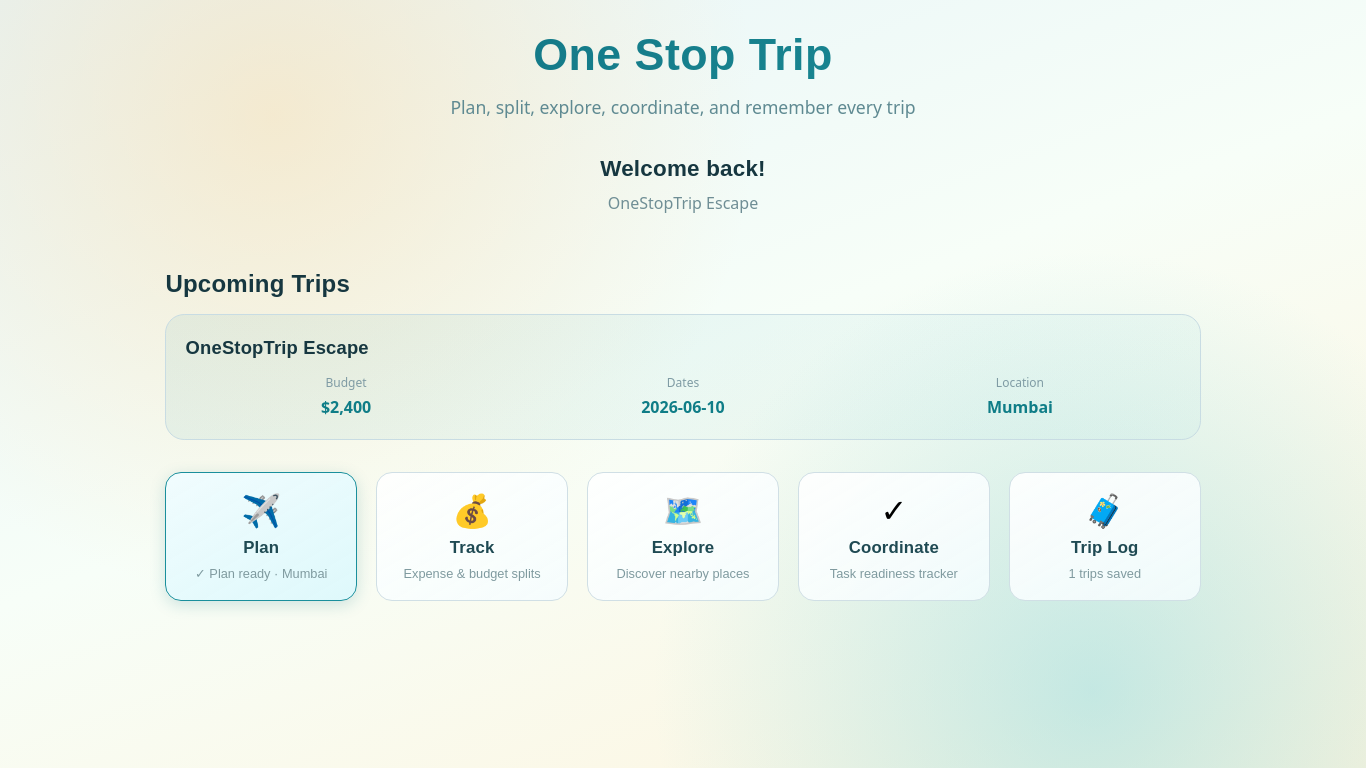
it: App integration › requires positive share values for percentage split mode before adding expenses
The width and height of the screenshot is (1366, 768).
Click the button "💰 Track Expense & budget splits" at x=472, y=536, box [376, 472, 568, 601]
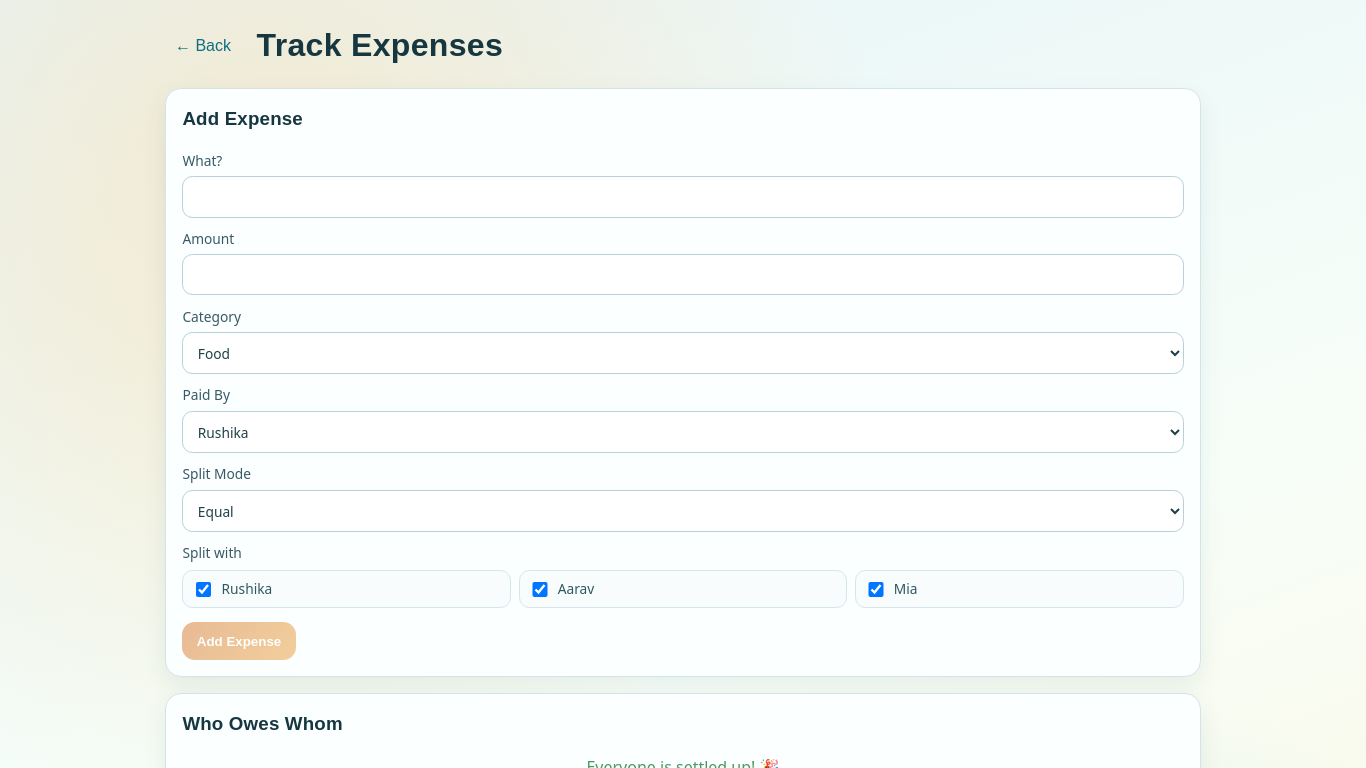
Check: the heading "Track Expenses" is shown, box [257, 22, 503, 69]
Type "Boat Ride" into the field labelled "What?" at x=683, y=197, box [182, 176, 1184, 218]
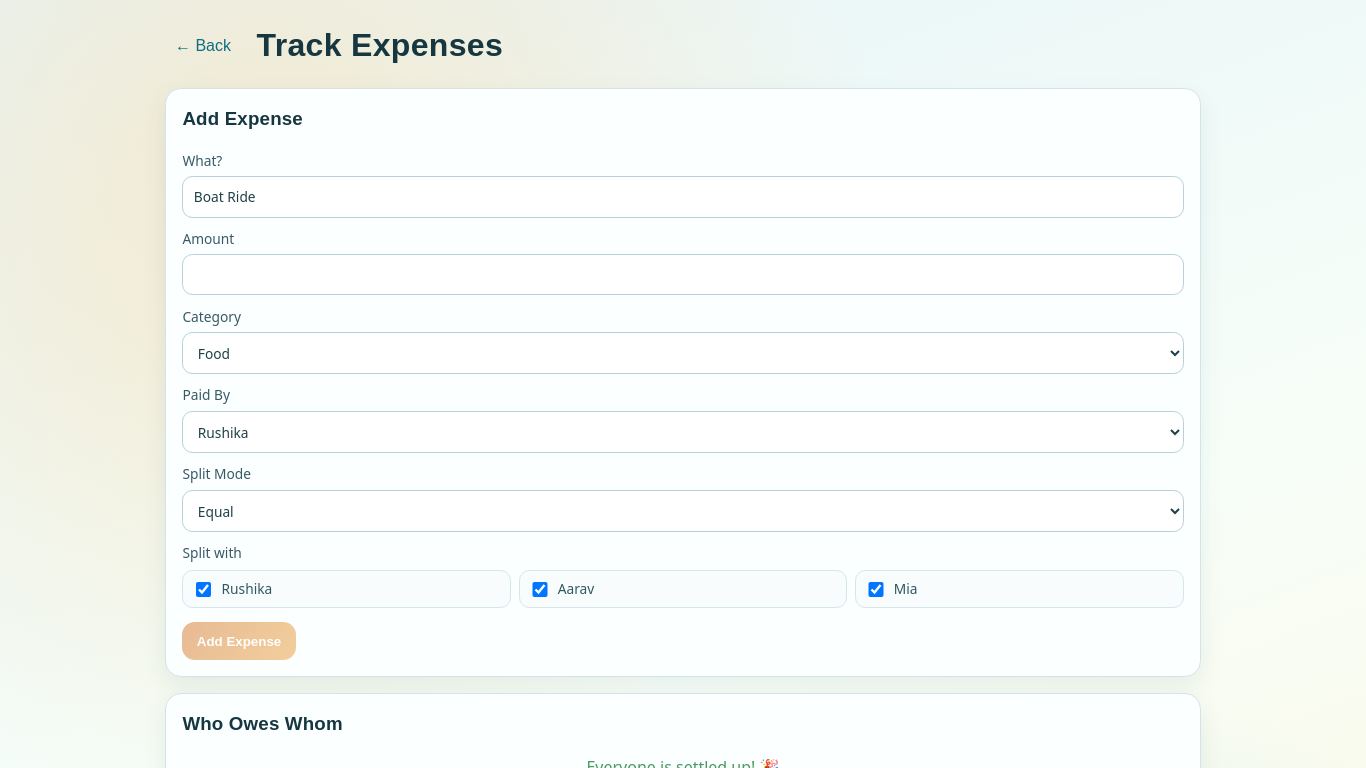
Type "90" into the number field labelled "Amount" at x=683, y=275, box [182, 254, 1184, 295]
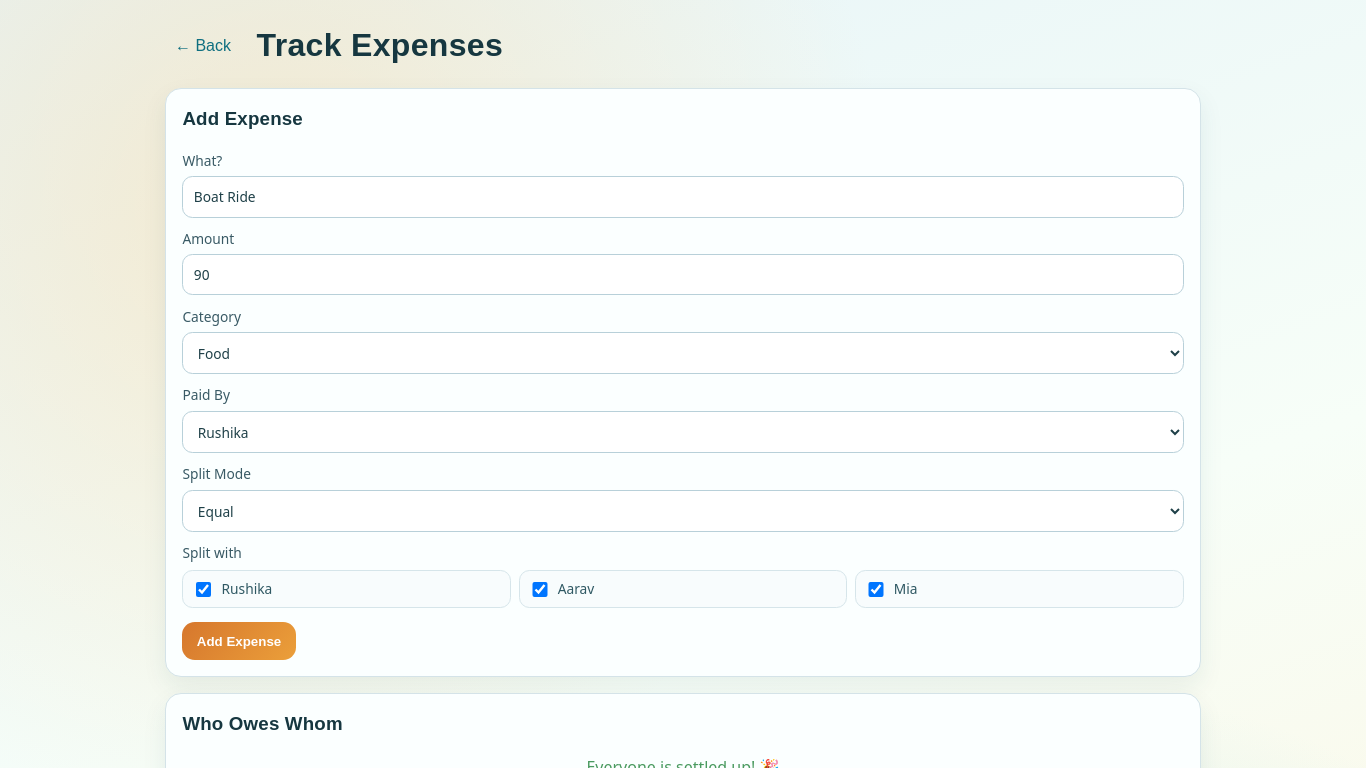
Select "Percentage" in the dropdown labelled "Split Mode" at x=683, y=511, box [182, 490, 1184, 532]
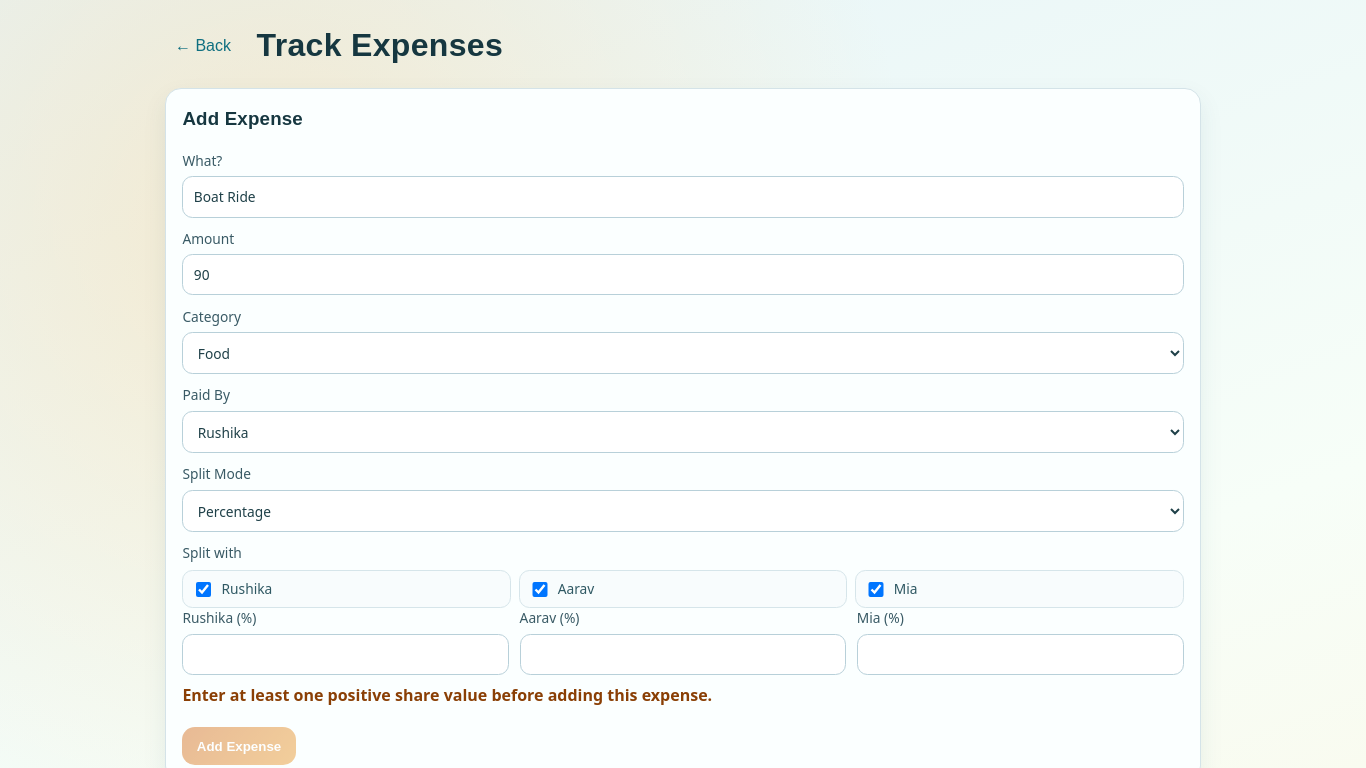
Check: the button "Add Expense" is disabled, box [182, 728, 296, 765]
Check: the text "Enter at least one positive share value before adding this expense." is shown, box [182, 684, 712, 706]
